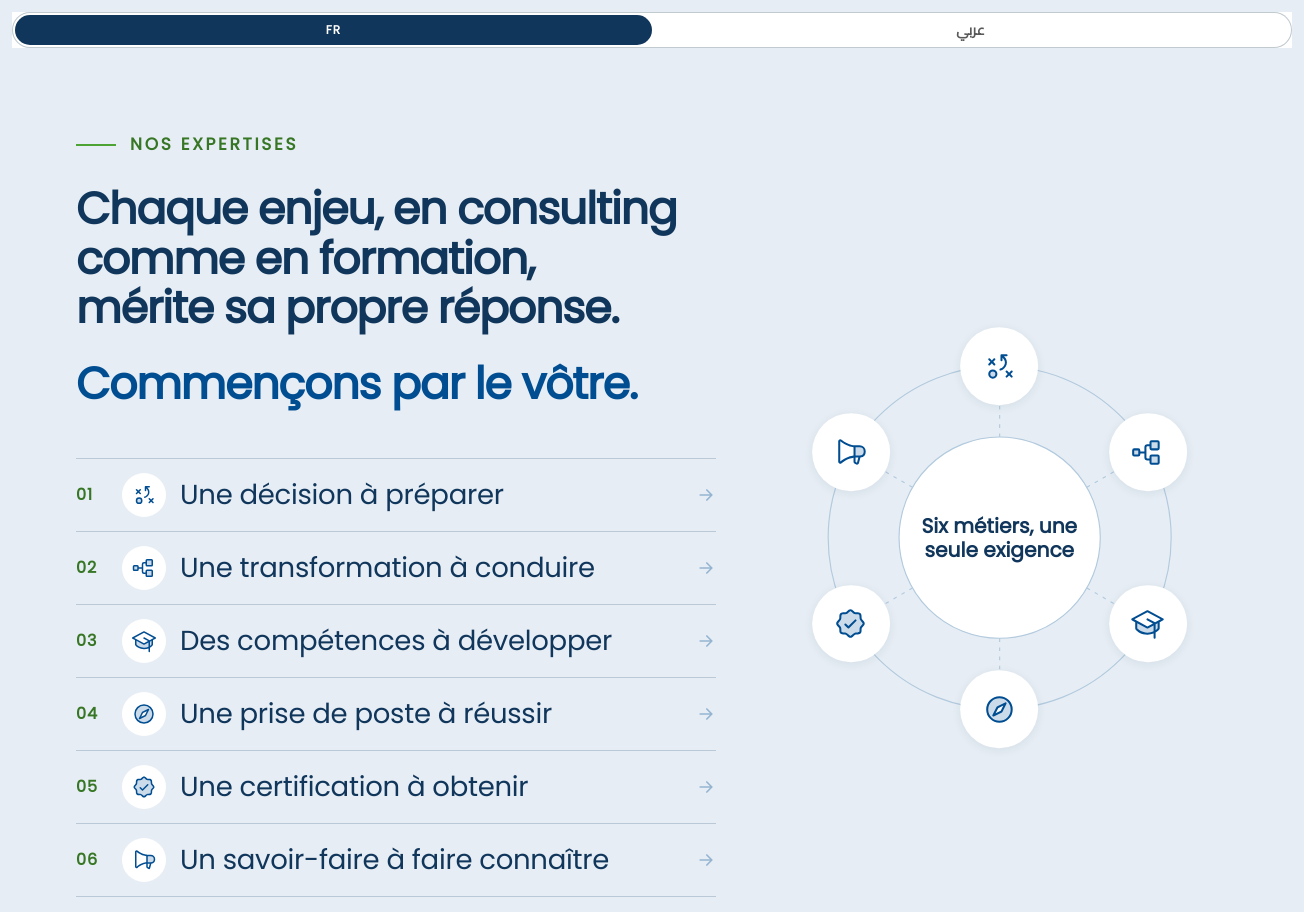
Page « Nos expertises » › passe en arabe
Step 1. Click the button "عربي" → [970, 30], box [652,15,1289,45]
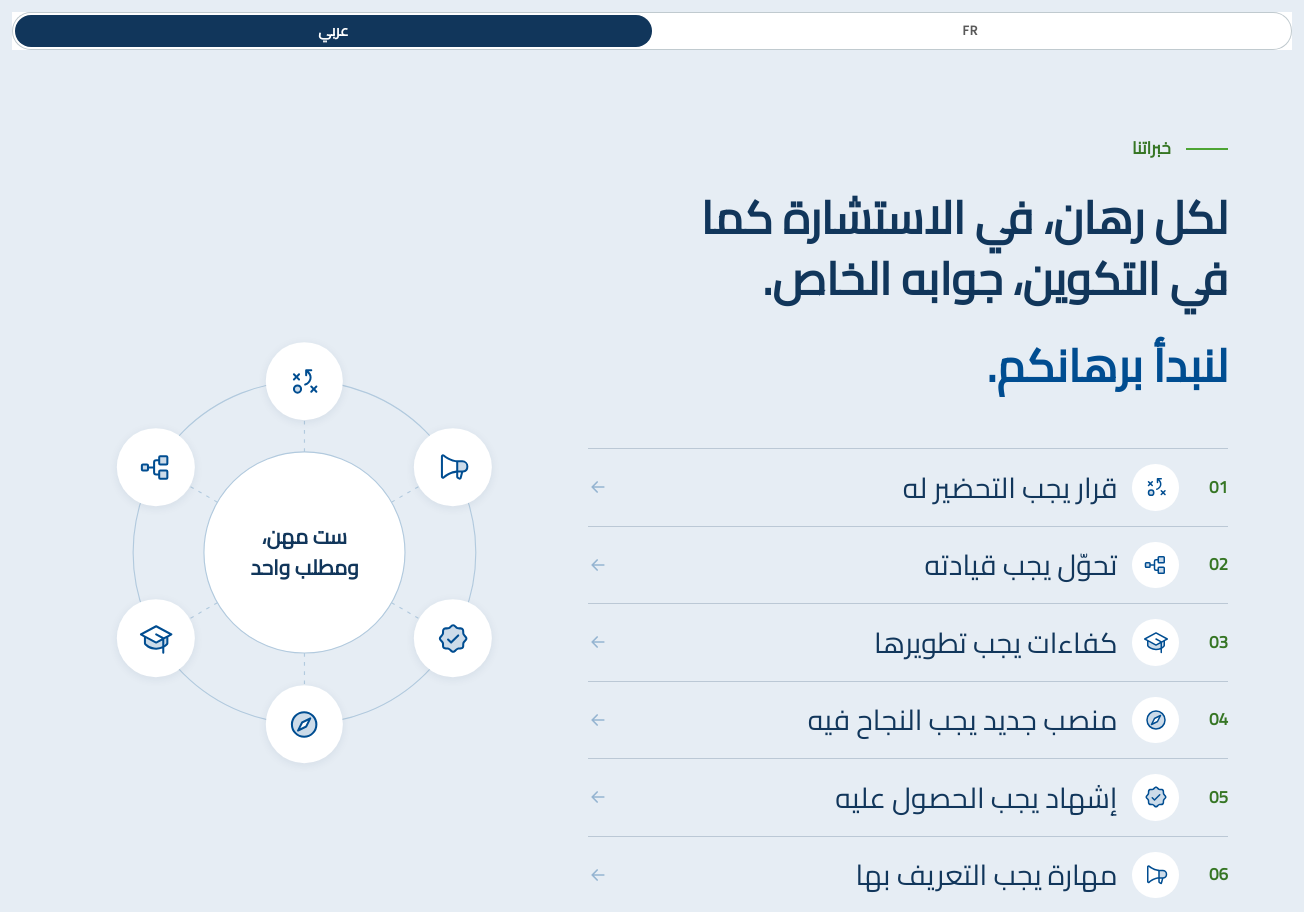
Check: the heading shows "لكل رهان", box [701,175,1228,321]
